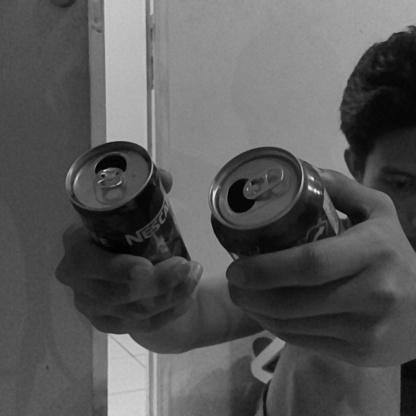alumunium_can: (61, 139, 193, 278), (206, 145, 345, 264)
